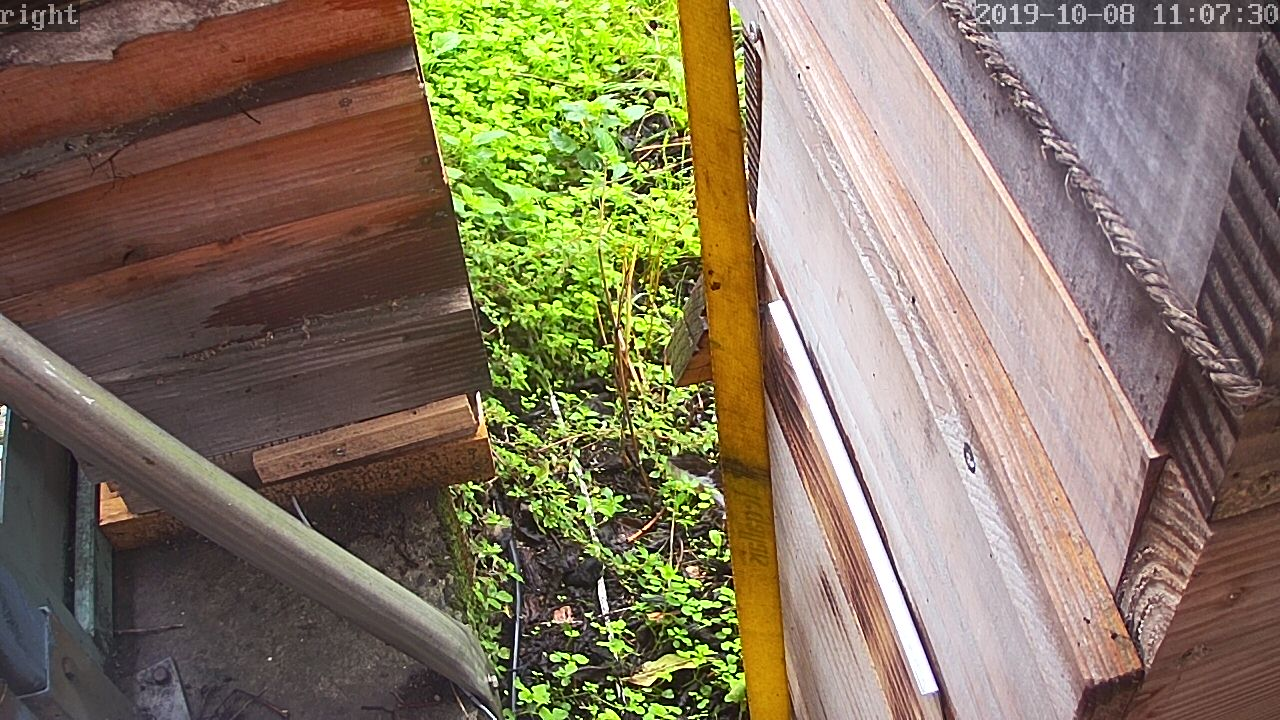hornet: (707, 531, 737, 595)
